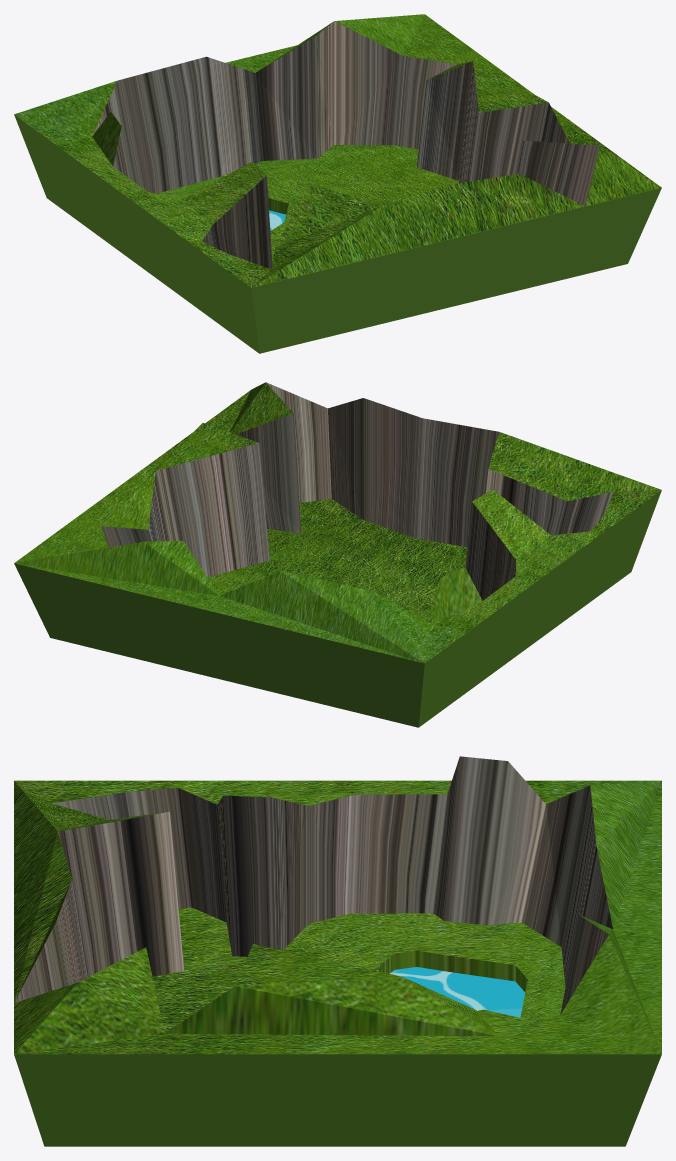
File: Niveau.dae
3 views of the same model, one above another, from view 1: azimuth 30°, elevation 25°; view 2: azimuth 150°, elevation 25°; view 3: azimuth 270°, elevation 25° (orthographic). The views are drawn at different scales.
Parts seen in each view (by area): view 1: Niveau; view 2: Niveau; view 3: Niveau.
Part boxes in pixels (left/top/right/bottom): Niveau: left=14, top=14, right=661, bottom=353; Niveau: left=14, top=382, right=661, bottom=727; Niveau: left=14, top=756, right=661, bottom=1146.
Size of the model in its own units: 111 by 111 by 32.34.
3 materials, 3 textured.
